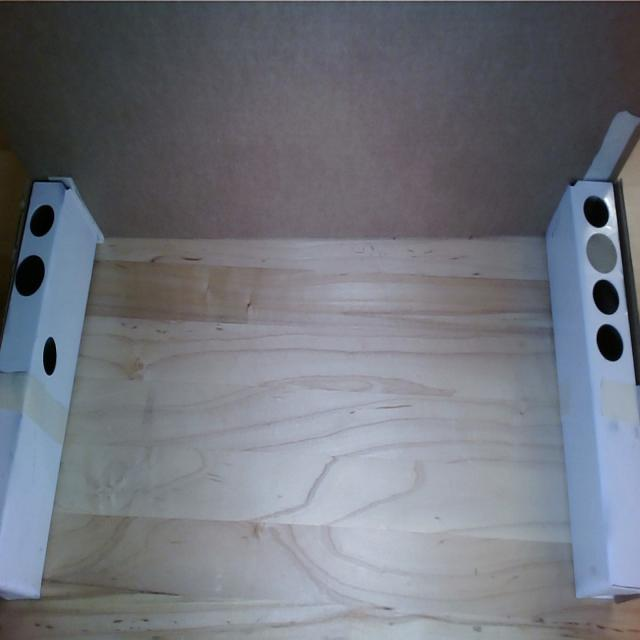Hole: (596, 322, 622, 362), (592, 279, 619, 315), (30, 202, 56, 238), (583, 192, 609, 228), (41, 335, 57, 377)
Sticker: (584, 230, 620, 277), (13, 252, 46, 300)
